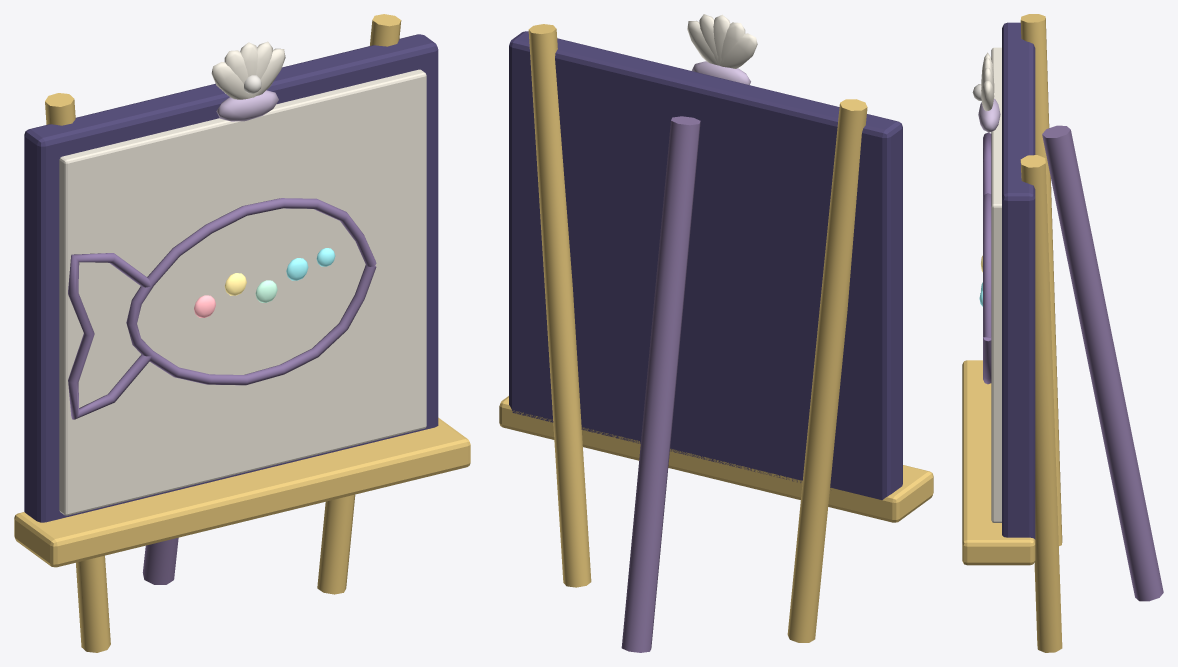
Rendered from pearl_craft_easel.glb.
3 views of the same model, side by side, from view 1: azimuth 30°, elevation 25°; view 2: azimuth 150°, elevation 25°; view 3: azimuth 270°, elevation 25° (orthographic). The views are drawn at different scales.
Parts seen in each view (by area): view 1: pearl_craft_easel.001; view 2: pearl_craft_easel.001; view 3: pearl_craft_easel.001.
Part boxes in pixels (<box>): pearl_craft_easel.001: <box>14,14,470,652</box>; pearl_craft_easel.001: <box>499,14,933,652</box>; pearl_craft_easel.001: <box>962,14,1163,652</box>.
Size of the model in its own units: 6.55 by 8.98 by 3.04.
